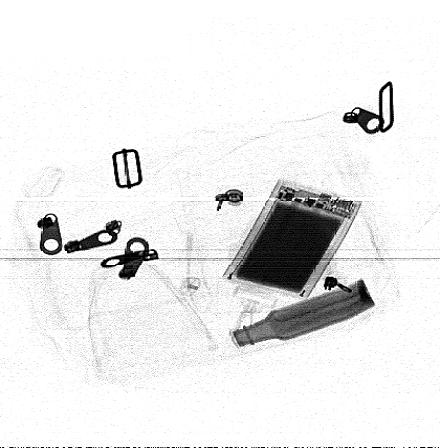Powerbank: (220, 178, 363, 300)
